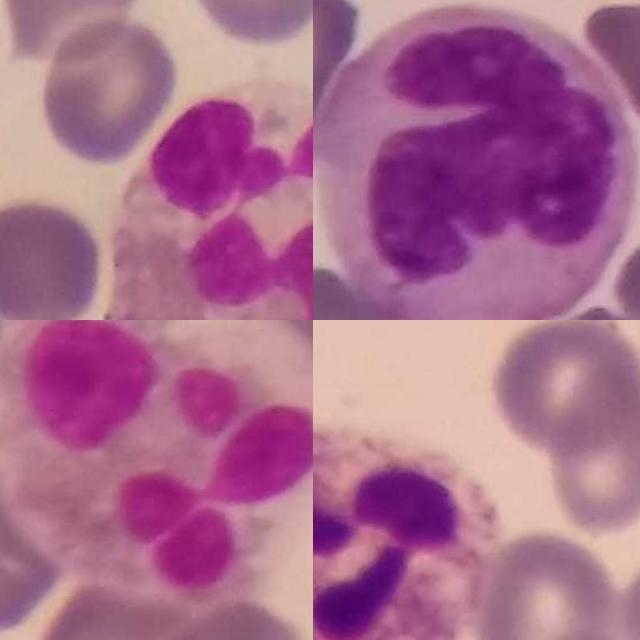Eosinophil: (0, 320, 313, 603), (112, 80, 313, 320)
Monocyte: (313, 2, 637, 320)
Neutrophil: (313, 419, 500, 640)
